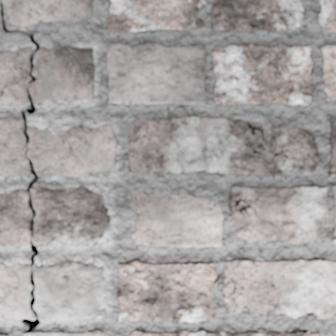brick: (129, 117, 319, 175), (223, 260, 335, 317), (212, 44, 312, 105), (117, 261, 216, 321), (107, 43, 204, 104), (229, 186, 328, 243), (131, 193, 222, 246), (107, 0, 204, 33), (211, 0, 302, 31), (2, 0, 92, 26), (130, 331, 319, 335), (323, 45, 335, 99), (319, 0, 335, 31), (23, 330, 106, 335), (330, 119, 335, 176), (224, 298, 241, 314), (333, 186, 335, 234)
broken_brick: (28, 122, 117, 177), (31, 186, 110, 247), (35, 261, 107, 323), (30, 44, 94, 104), (0, 261, 34, 321), (0, 116, 32, 176), (0, 47, 29, 105), (0, 189, 29, 246)
crack: (0, 2, 41, 333), (247, 123, 306, 166), (229, 196, 264, 224), (222, 277, 249, 310), (332, 234, 335, 244), (112, 159, 114, 167)
